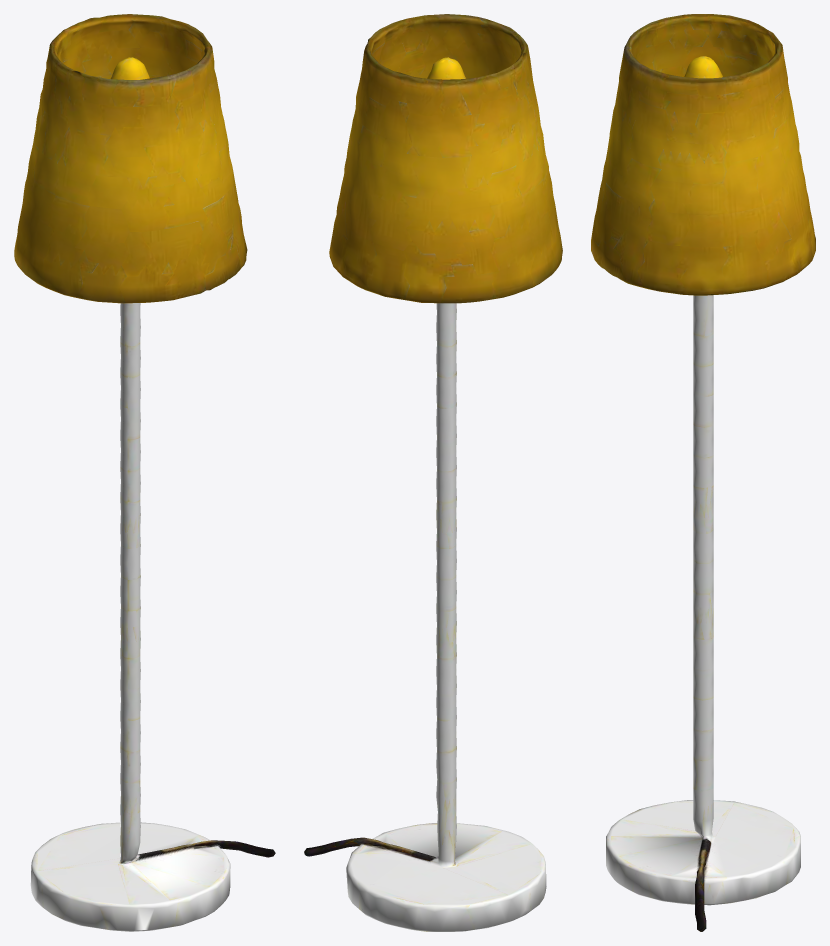
File: floorlamp.glb
3 renders of one model, left to right at view 1: azimuth 30°, elevation 25°; view 2: azimuth 150°, elevation 25°; view 3: azimuth 270°, elevation 25°, orthographic. The views are drawn at different scales.
Bounding box in the file's own units: 0.5753 × 1.91 × 0.4736.
Materials: 1 (1 with a texture image).
